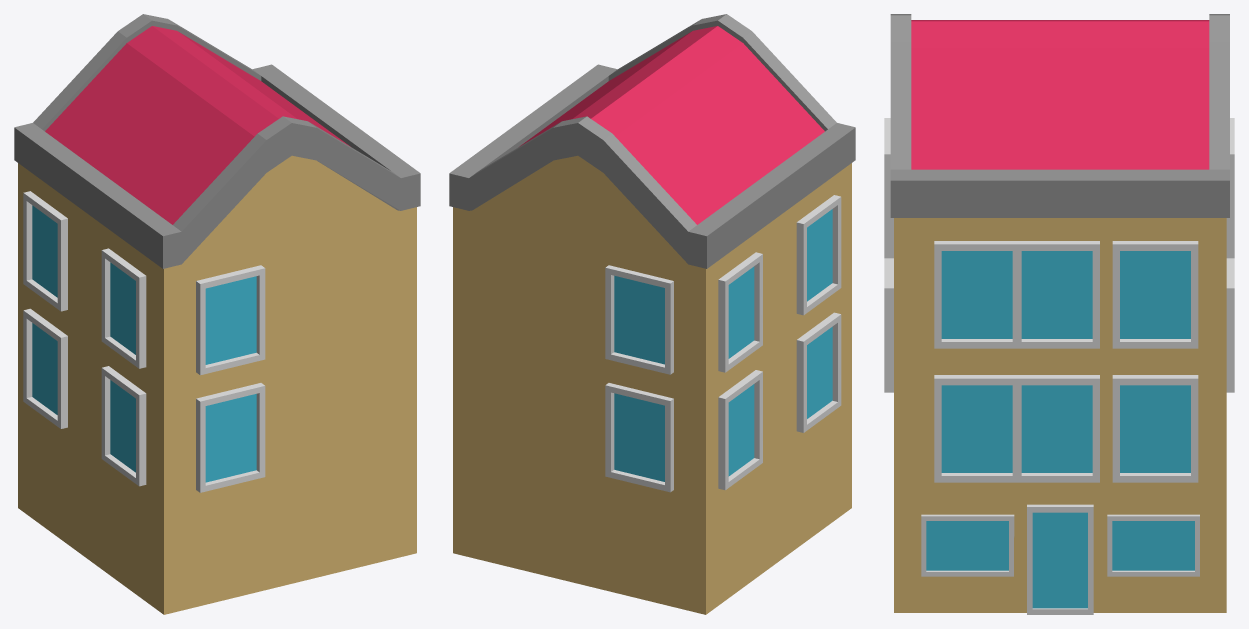
The model's file is building4.fbx.
The picture shows the model from 3 angles, left to right: view 1: azimuth 30°, elevation 25°; view 2: azimuth 150°, elevation 25°; view 3: azimuth 270°, elevation 25°; orthographic projection. The views are drawn at different scales.
Visible parts, largest first — view 1: Plane.003; view 2: Plane.003; view 3: Plane.003.
Part boxes in pixels (left/top/right/bottom): Plane.003: left=14, top=14, right=420, bottom=614; Plane.003: left=449, top=14, right=855, bottom=614; Plane.003: left=884, top=14, right=1234, bottom=614.
Size of the model in its own units: 1053 by 1748 by 1052.
